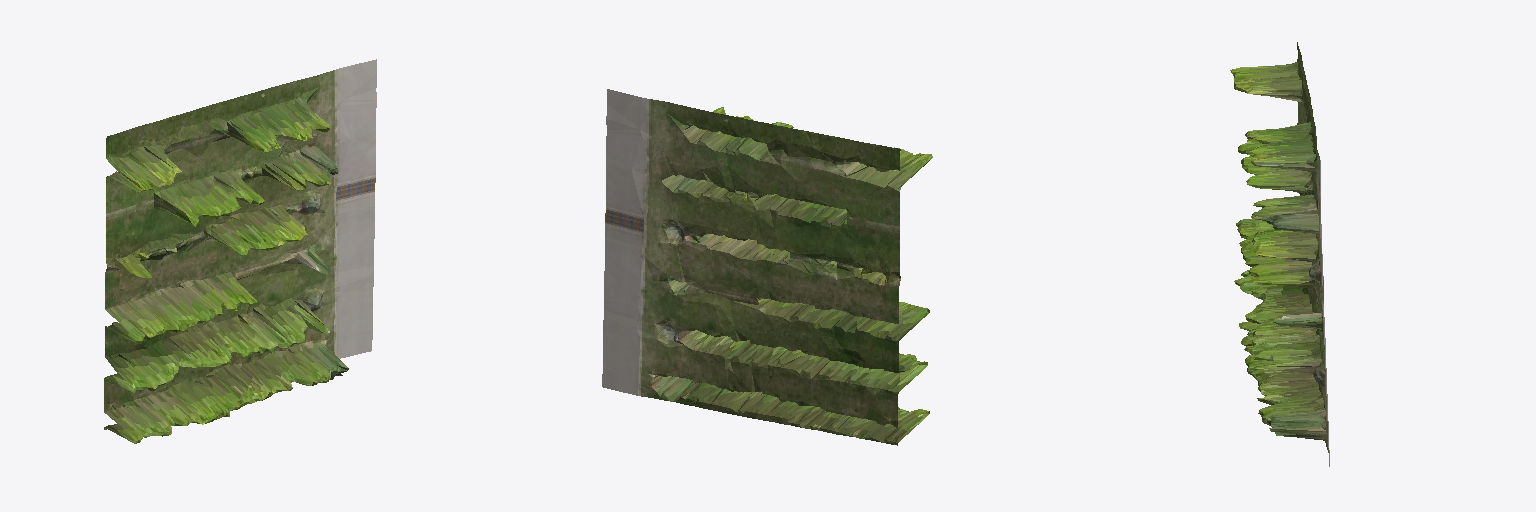
3 renders of one model, left to right at view 1: azimuth 30°, elevation 25°; view 2: azimuth 150°, elevation 25°; view 3: azimuth 270°, elevation 25°, orthographic.
Visible parts, largest first — view 1: grp1; view 2: grp1; view 3: grp1.
Part boxes in pixels (x1,y1,x2,y2): grp1: (104, 59, 376, 443); grp1: (602, 89, 932, 445); grp1: (1230, 42, 1329, 466).
Size of the model in its own units: 10 by 10 by 3.05.
Materials: 1 (1 with a texture image).